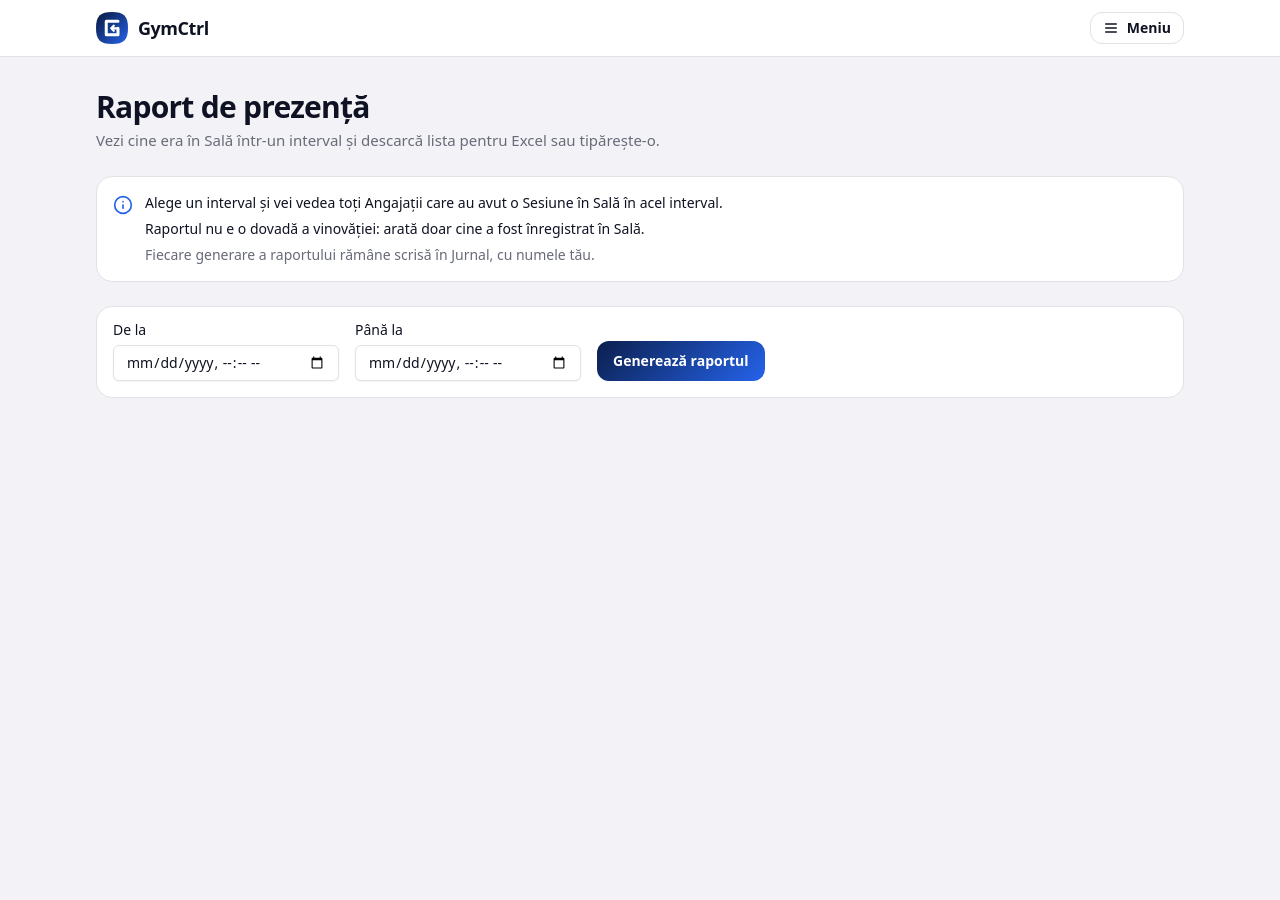
Test: ecranul Rapoarte › duce la login când sesiunea a expirat (401)
Type "2026-01-05T10:00" into the field labelled "De la".
click(226, 362); type("2026-01-05T10:00")  # box [113,344,339,380]
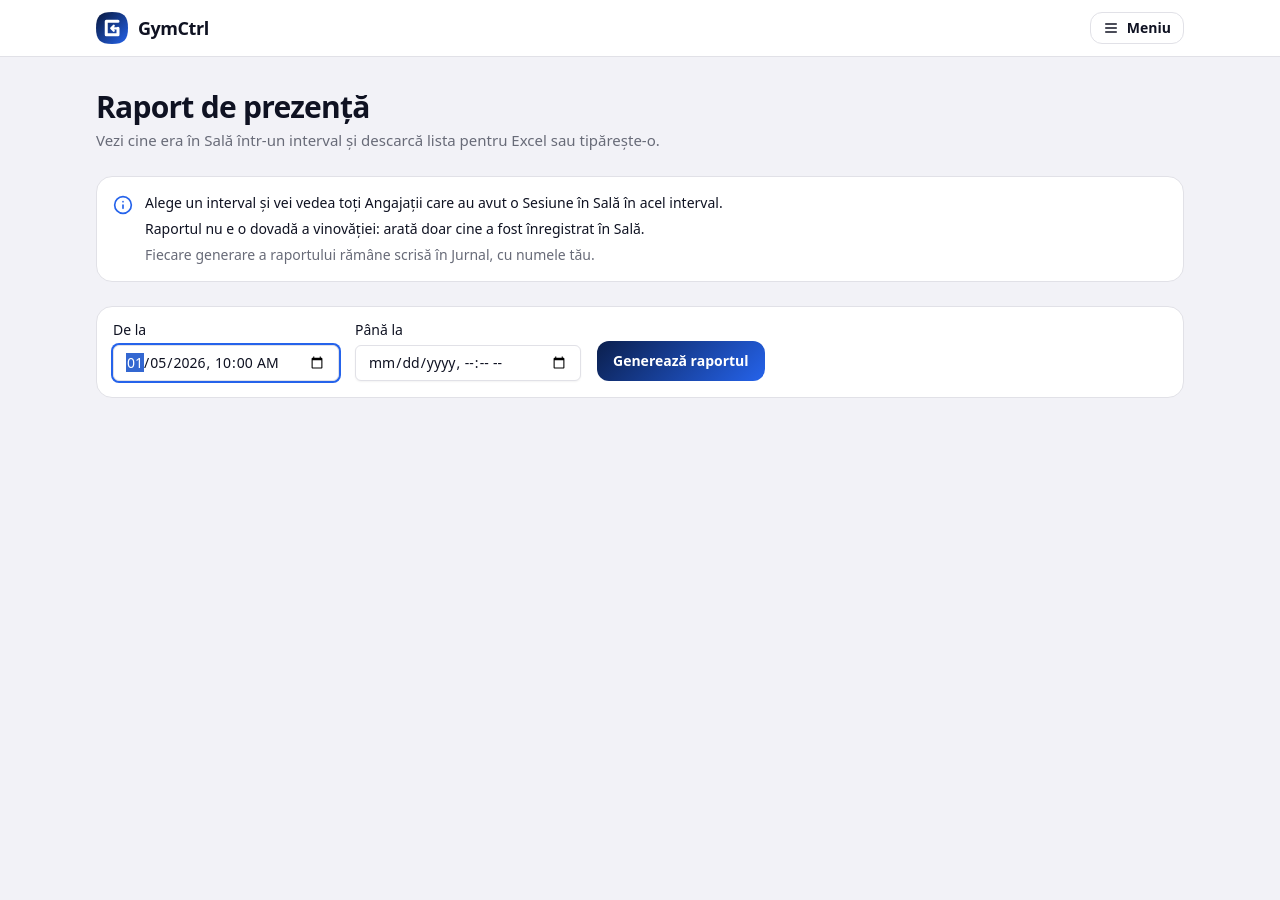
Type "2026-01-05T12:00" into the field labelled "Până la".
click(468, 362); type("2026-01-05T12:00")  # box [355,344,581,380]
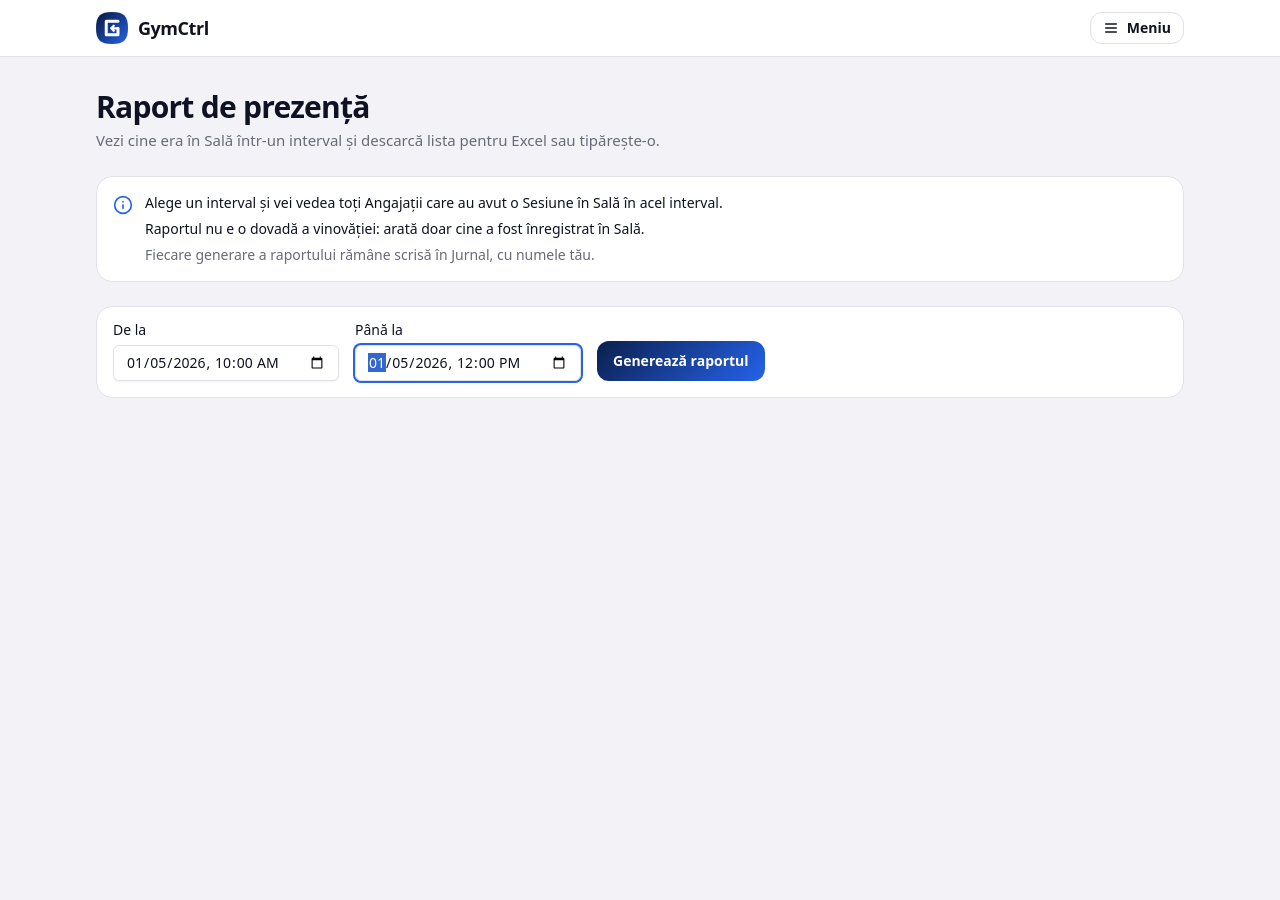
Click the button "Generează raportul".
click(681, 360)  # box [597,340,765,380]
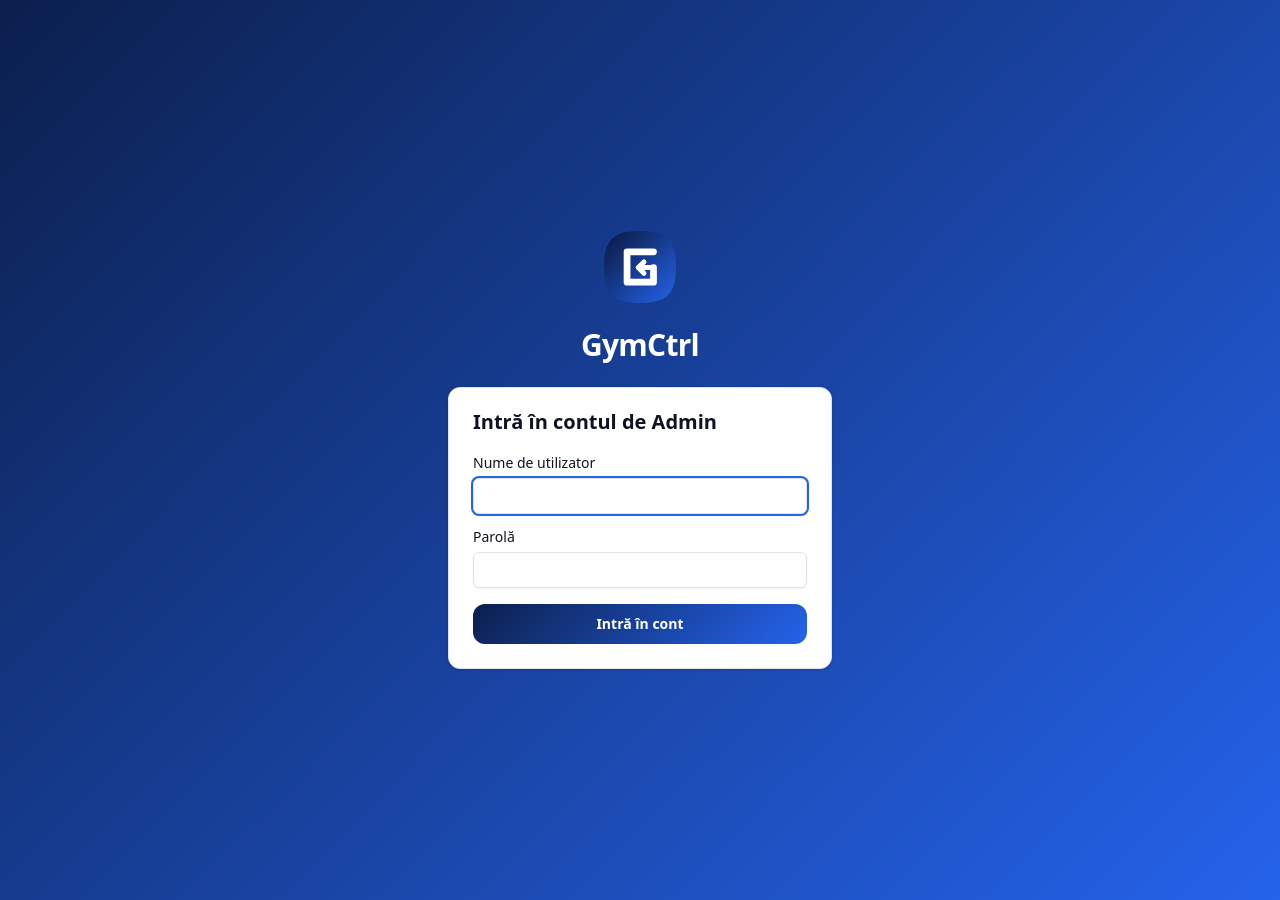
Now the button "Intră în cont" is shown, box [473,604,807,644]
